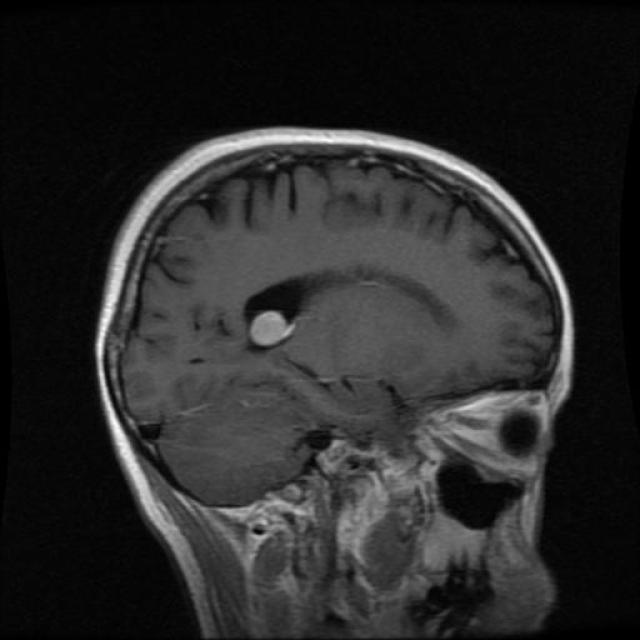meningioma: (249, 311, 298, 349)
